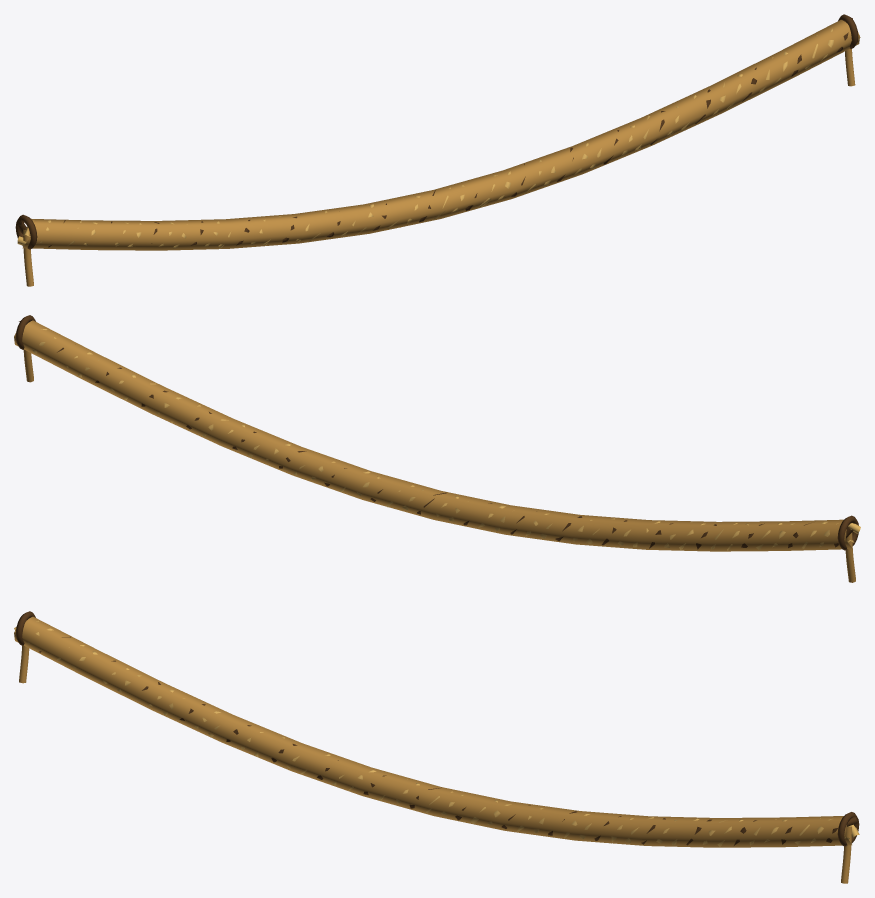
File: mia-shimenawa.glb
3 views of the same model, one above another, from view 1: azimuth 30°, elevation 25°; view 2: azimuth 150°, elevation 25°; view 3: azimuth 330°, elevation 25° (orthographic).
Parts seen in each view (by area): view 1: Body_hay-mid, Body_hay-light, Body_wood; view 2: Body_hay-mid, Body_hay-light, Body_wood; view 3: Body_hay-mid, Body_hay-light, Body_wood.
Part boxes in pixels (x1,y1,x2,y2): Body_hay-mid: (22,19,859,286); Body_hay-light: (17,28,860,248); Body_wood: (15,14,858,249); Body_hay-mid: (14,320,855,582); Body_hay-light: (16,329,860,550); Body_wood: (15,315,858,550); Body_hay-mid: (14,616,851,883); Body_hay-light: (14,620,859,846); Body_wood: (15,611,859,846).
Bounding box in the file's own units: 3.02 × 0.3515 × 0.112.
